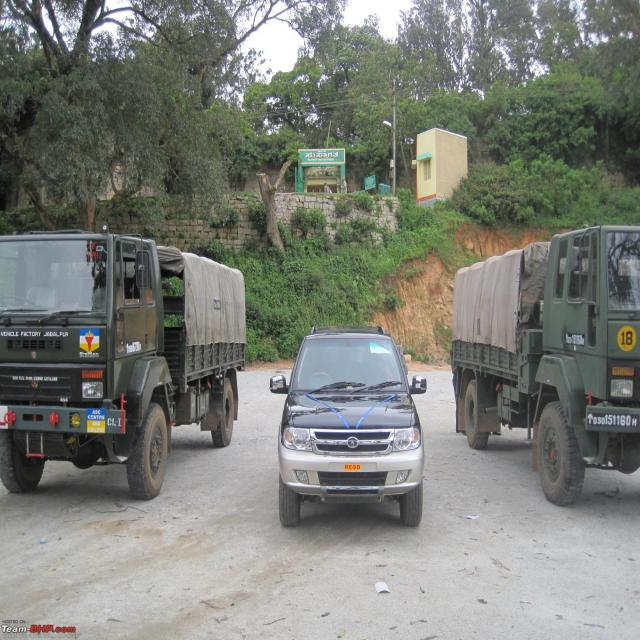car: (270, 327, 426, 527)
truck: (0, 232, 246, 499), (451, 225, 640, 505)
